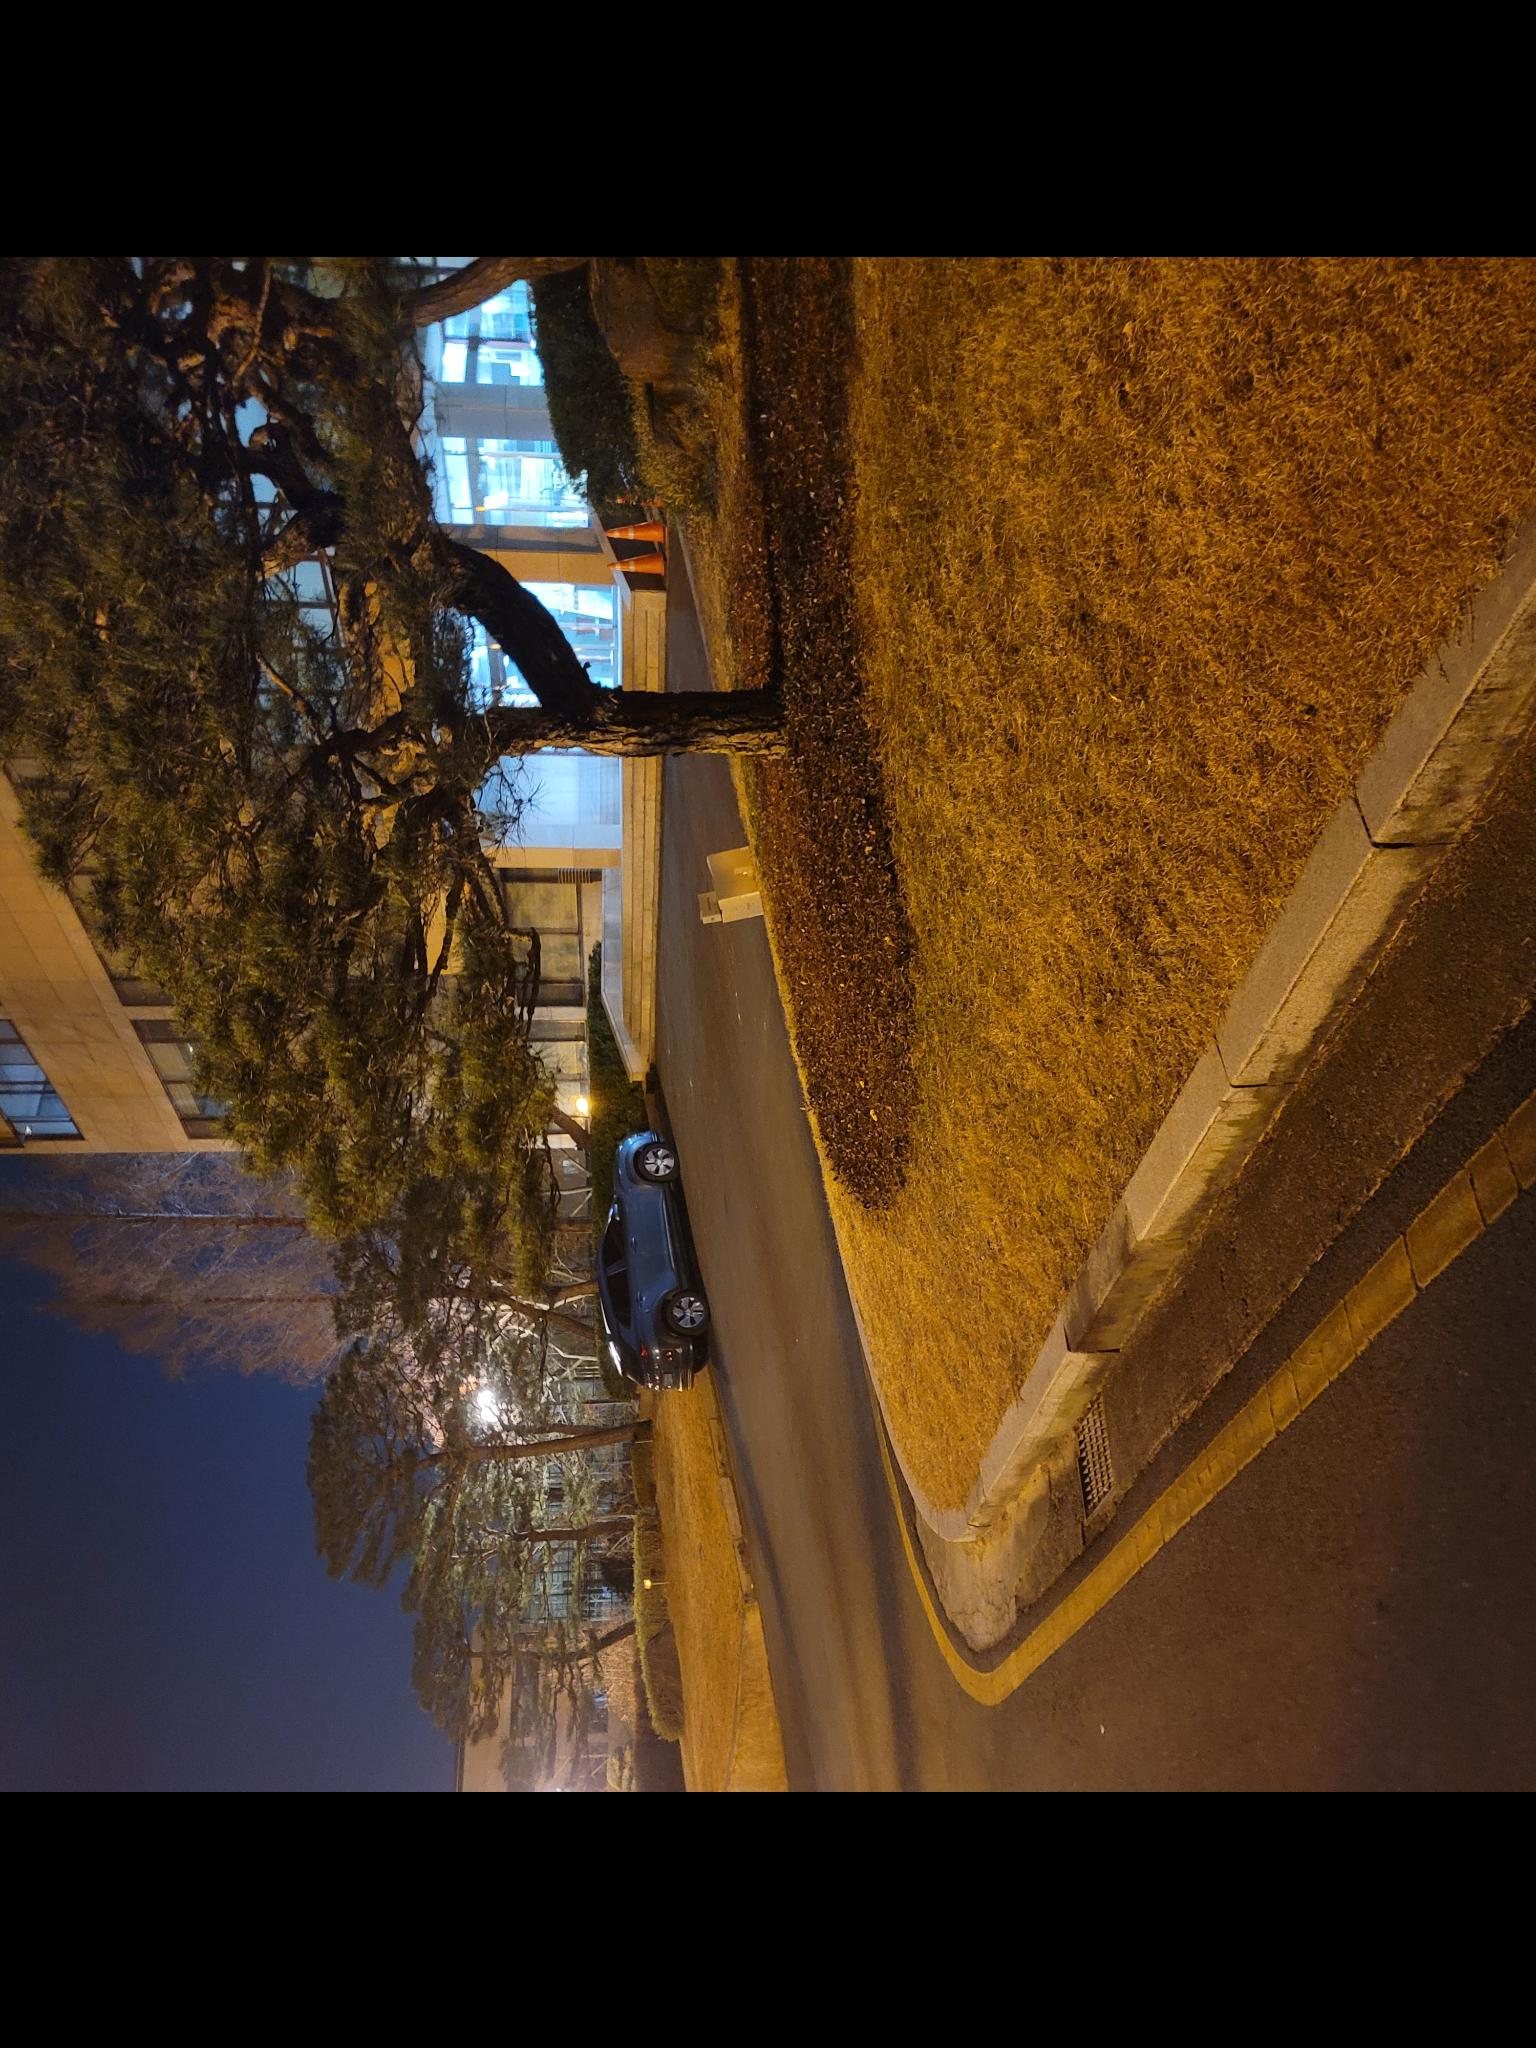Box: (715, 840, 760, 927), (684, 877, 729, 939)
